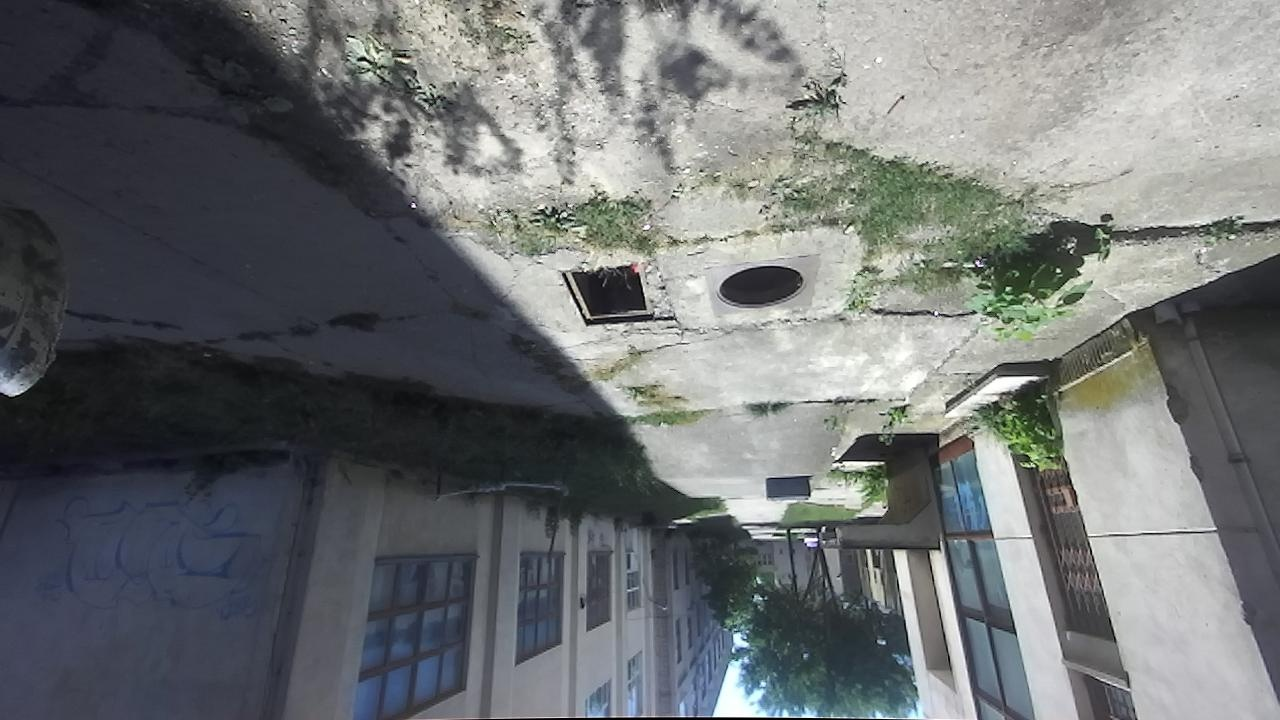drain: (555, 262, 657, 332), (706, 262, 811, 312)
